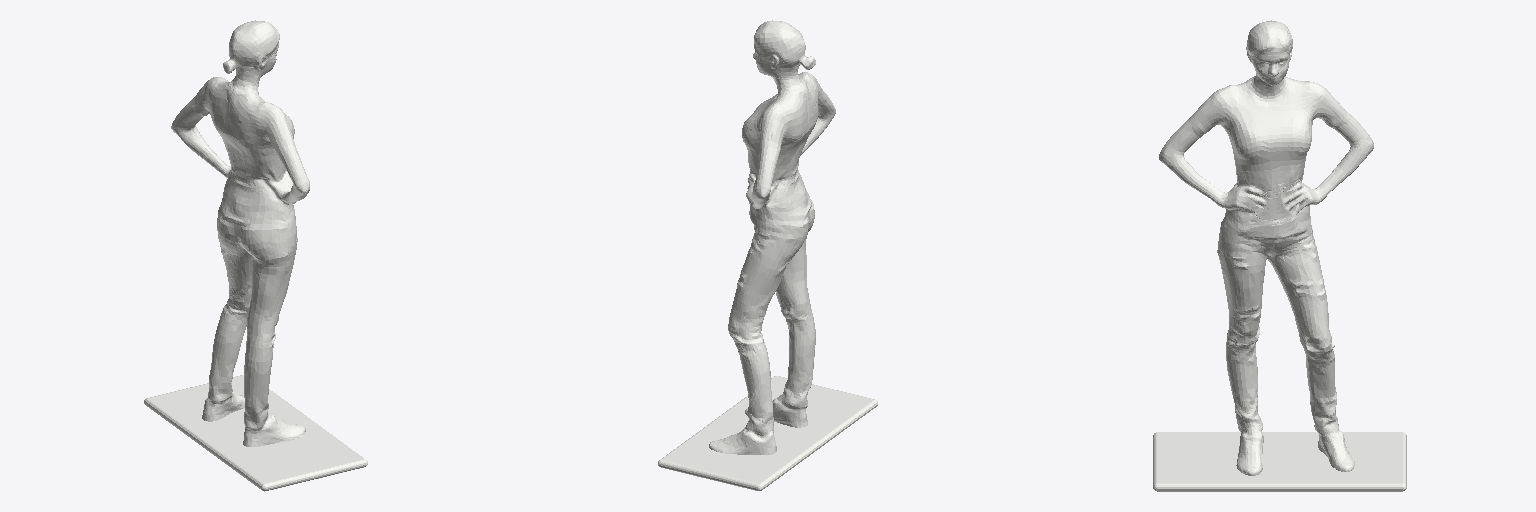
The robot description file, URDF, robot "Girl_URDF":
<?xml version="1.0" encoding="utf-8"?>
<!-- This URDF was automatically created by SolidWorks to URDF Exporter! Originally created by Stephen Brawner ([email redacted]) 
     Commit Version: 1.6.0-4-g7f85cfe  Build Version: 1.6.7995.38578
     For more information, please see http://wiki.ros.org/sw_urdf_exporter -->
<robot
  name="Girl_URDF">
  <link
    name="base_link">
    <inertial>
      <origin
        xyz="-0.025376 -0.018352 0.7693"
        rpy="0 0 0" />
      <mass
        value="68.121" />
      <inertia
        ixx="19.389"
        ixy="0.039653"
        ixz="0.41951"
        iyy="18.21"
        iyz="0.65153"
        izz="1.9306" />
    </inertial>
    <visual>
      <origin
        xyz="0 0 0"
        rpy="0 0 0" />
      <geometry>
        <mesh
          filename="package://rbot/girl_urdf/base_link.STL" />
      </geometry>
      <material
        name="">
        <color
          rgba="0.96471 0.96471 0.95294 1" />
      </material>
    </visual>
    <collision>
      <origin
        xyz="0 0 0"
        rpy="0 0 0" />
      <geometry>
        <mesh
          filename="package://rbot/girl_urdf/base_link.STL" />
      </geometry>
    </collision>
  </link>
</robot>

--- What the picture shows (computed from the rendered views, not written in the file) ---
The picture shows the robot from 3 angles, left to right: view 1: azimuth 30°, elevation 25°; view 2: azimuth 150°, elevation 25°; view 3: azimuth 270°, elevation 25°; orthographic projection.
Robot: Girl_URDF — 1 links, 0 joints (none); root link base_link; default pose: every joint at zero.
Visible links, largest first — view 1: base_link; view 2: base_link; view 3: base_link.
Link boxes in pixels (x1,y1,x2,y2): base_link: (144,20,367,491); base_link: (658,20,877,490); base_link: (1153,20,1406,491).
Size in the robot's own frame: 0.4548 by 0.8925 by 1.71 metres.
Meshes: 1 distinct files referenced, 1 mesh visuals loaded (1 binary STL).
